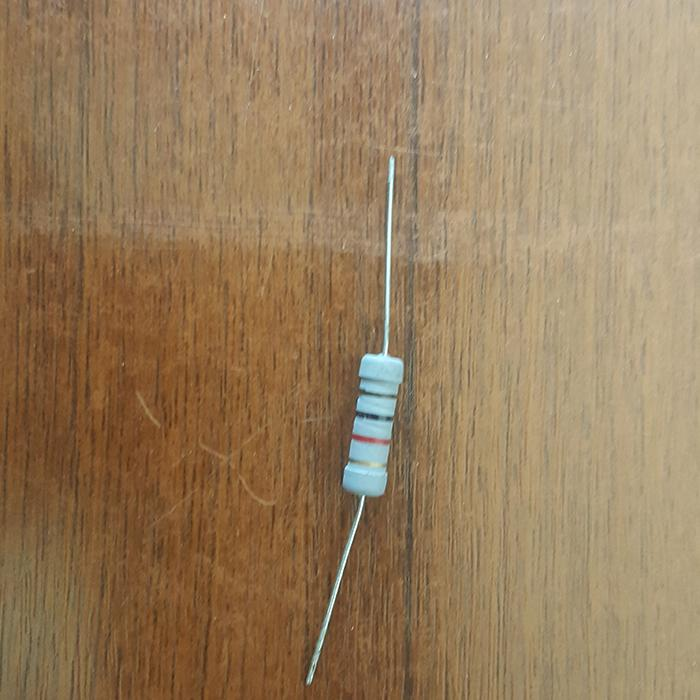resistor: (343, 354, 402, 495)
